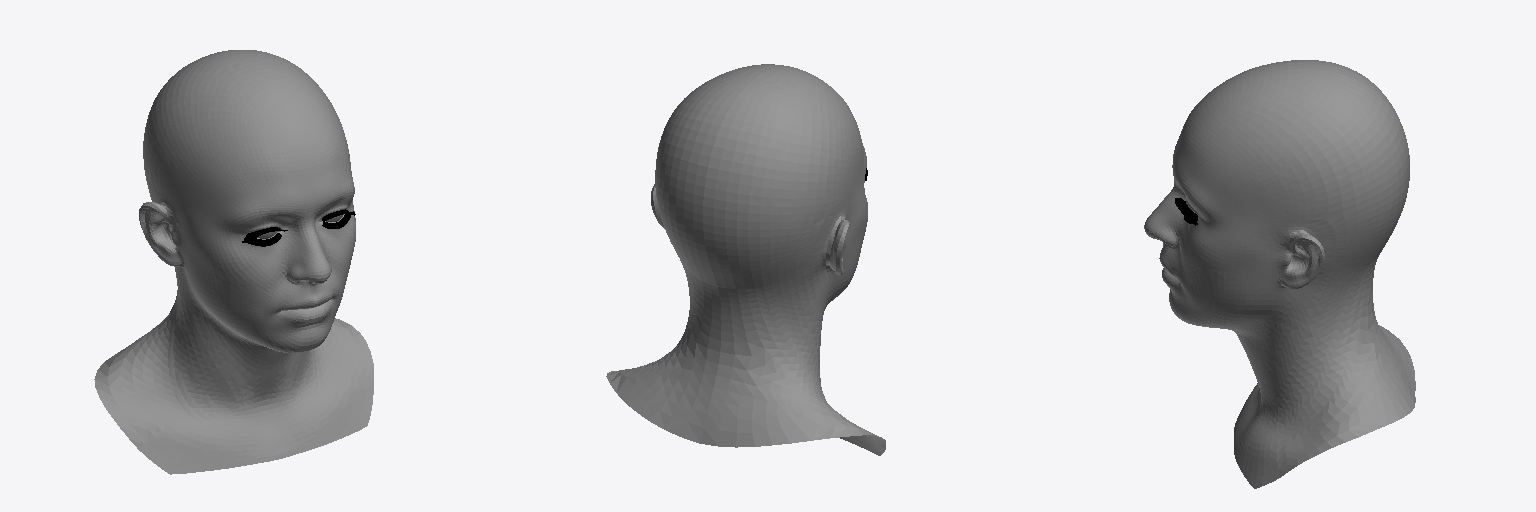
Rendered from identity046.obj.
3 views of the same model, side by side, from view 1: azimuth 30°, elevation 25°; view 2: azimuth 150°, elevation 25°; view 3: azimuth 270°, elevation 25° (orthographic).
Size of the model in its own units: 24.86 by 33.78 by 22.26.